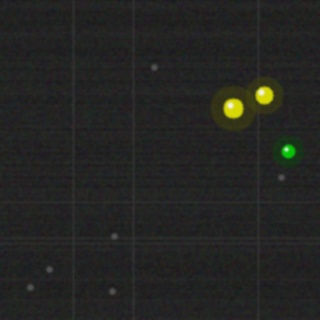green_normal: (279, 142, 297, 160)
yellow_warning: (221, 96, 245, 120), (253, 84, 275, 106)
